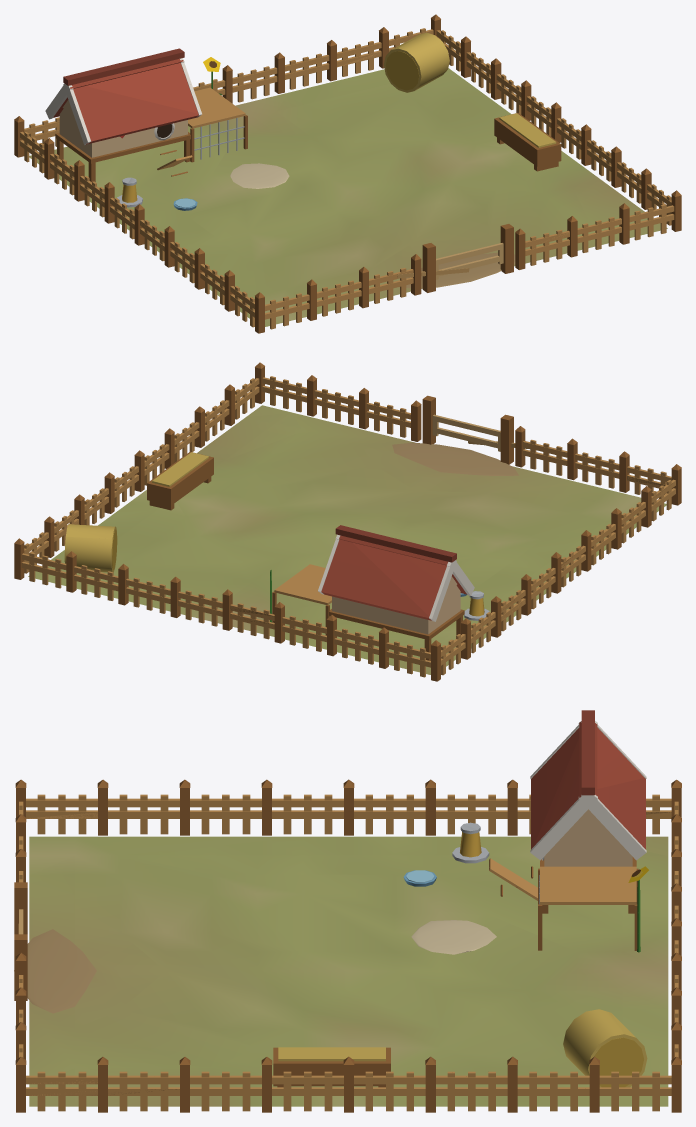
The model's file is quail_coop-g2.glb.
The picture shows the model from 3 angles, top to bottom: view 1: azimuth 30°, elevation 25°; view 2: azimuth 150°, elevation 25°; view 3: azimuth 270°, elevation 25°; orthographic projection. The views are drawn at different scales.
Visible parts, largest first — view 1: home-quail_coop-g2-far, home-quail_coop-g2; view 2: home-quail_coop-g2, home-quail_coop-g2-far; view 3: home-quail_coop-g2-far, home-quail_coop-g2.
Part boxes in pixels (bbox=[...]): home-quail_coop-g2-far: bbox=[14, 14, 681, 333]; home-quail_coop-g2: bbox=[14, 19, 681, 333]; home-quail_coop-g2: bbox=[14, 362, 681, 681]; home-quail_coop-g2-far: bbox=[14, 362, 681, 679]; home-quail_coop-g2-far: bbox=[14, 710, 681, 1112]; home-quail_coop-g2: bbox=[14, 721, 681, 1112].
Bounding box in the file's own units: 7.93 × 1.74 × 7.95.
